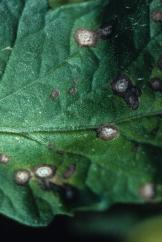Tomato Septoria leaf spot: (0, 0, 162, 226)
